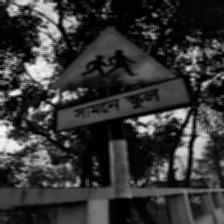School-in-front: (51, 26, 191, 133)
